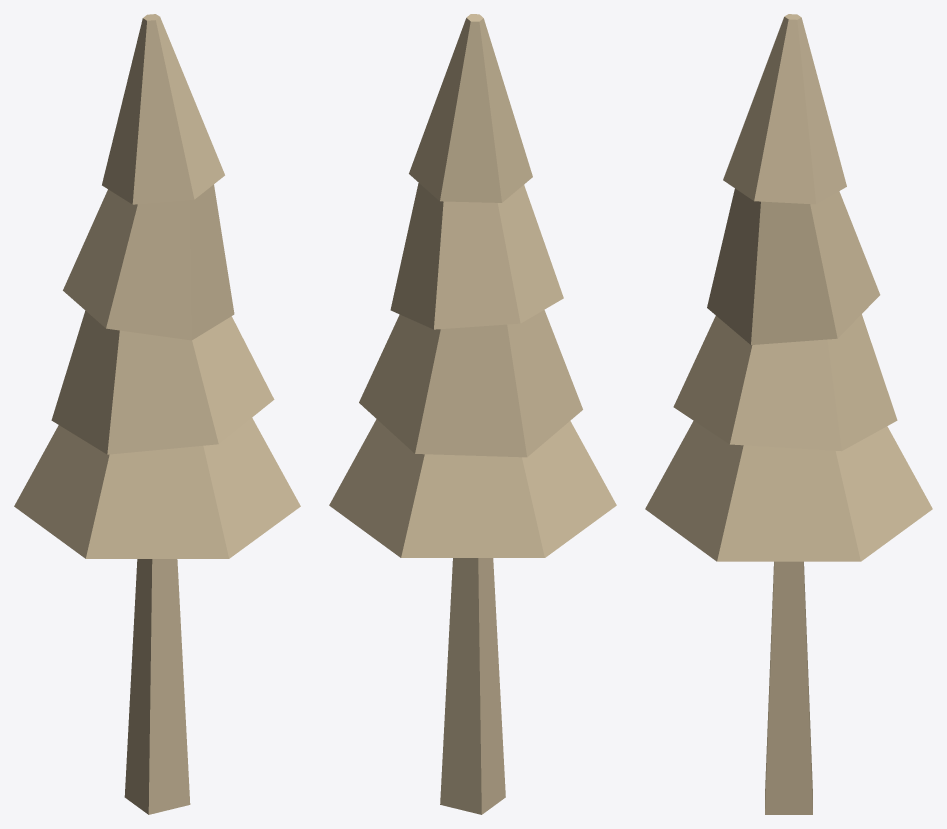
File: naturePack_051.fbx
3 renders of one model, left to right at view 1: azimuth 30°, elevation 25°; view 2: azimuth 150°, elevation 25°; view 3: azimuth 270°, elevation 25°, orthographic.
Parts seen in each view (by area): view 1: naturePack_051; view 2: naturePack_051; view 3: naturePack_051.
Boxes of the visible parts, x1=… form: naturePack_051: x1=14, y1=14, x2=300, y2=814; naturePack_051: x1=329, y1=14, x2=616, y2=814; naturePack_051: x1=645, y1=14, x2=932, y2=814.
Bounding box in the file's own units: 192 × 669 × 222.
